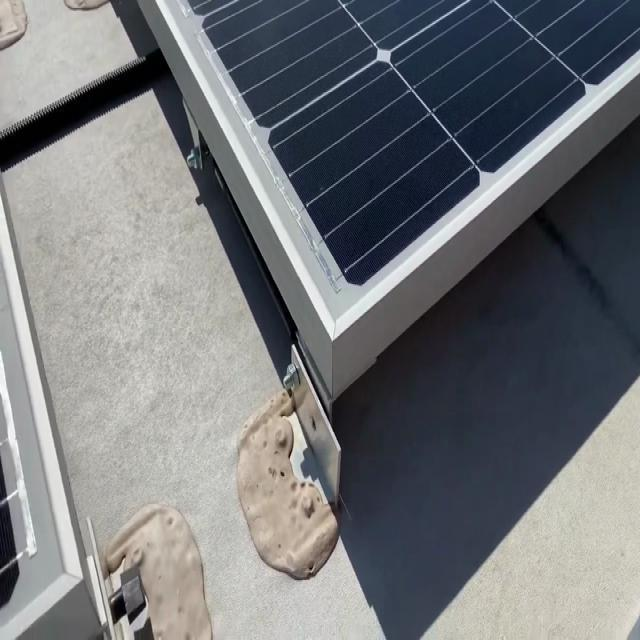Normal Solar Panel: (154, 0, 640, 335), (0, 182, 78, 640)
